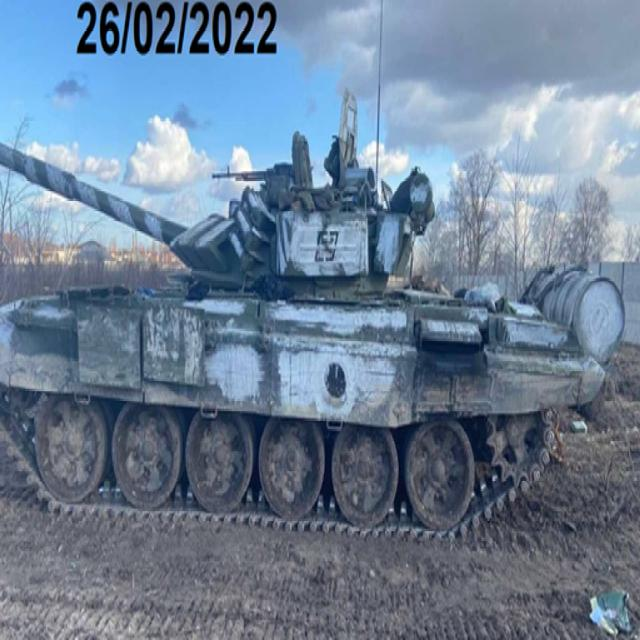TANK: (0, 89, 618, 538)
